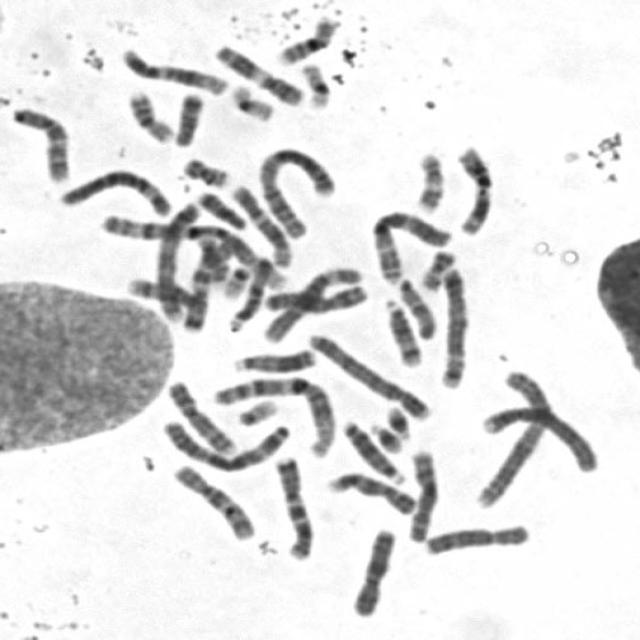A1: (95, 210, 295, 290), (207, 370, 339, 460)
A2: (470, 362, 555, 511), (254, 142, 338, 240)
A3: (156, 414, 295, 474), (367, 204, 457, 284)
B4: (300, 326, 434, 422), (474, 399, 602, 475)
B5: (151, 196, 205, 324), (432, 261, 470, 390)
C10: (166, 457, 259, 542), (5, 100, 74, 184)
C11: (211, 39, 306, 108), (451, 140, 496, 238)
C12: (113, 41, 230, 96), (224, 180, 294, 268)
C6: (256, 261, 364, 344), (53, 163, 174, 218)
C7: (176, 230, 235, 334), (268, 449, 316, 561)
C8: (419, 518, 533, 558), (401, 443, 443, 544)
C9: (161, 376, 239, 457), (323, 466, 419, 516)
D13: (338, 414, 409, 485), (226, 342, 317, 375)
D14: (377, 292, 424, 368), (122, 271, 208, 311)
D15: (222, 256, 271, 334), (392, 271, 441, 341)
E16: (273, 10, 344, 66), (122, 84, 175, 144)
E17: (409, 146, 447, 214), (196, 240, 233, 289)
E18: (192, 184, 251, 232), (168, 86, 205, 147)
F19: (226, 78, 278, 123), (295, 57, 334, 110)
F20: (416, 243, 458, 292), (176, 152, 232, 188)
G21: (365, 417, 405, 455), (380, 399, 415, 441)
G22: (231, 394, 281, 427), (217, 259, 254, 300)
X: (344, 522, 400, 619), (259, 278, 371, 314)
